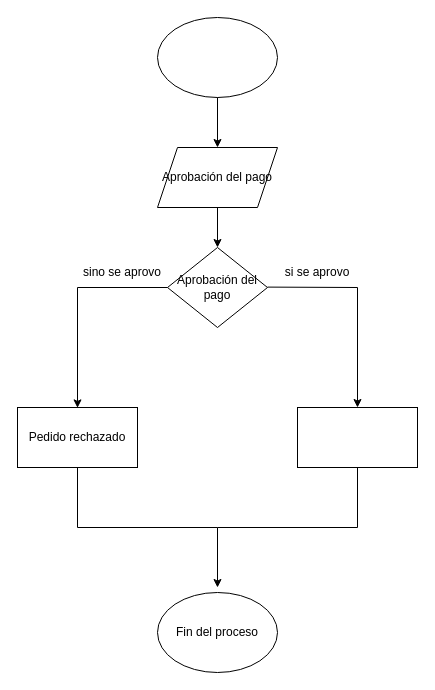
The diagram is 435 pixels wide and 690 high, and some of its shapes have lost their labels. Here are the shapes that lost their labels. From the top down, the centre of each, then its label:
At pixel 217 57: "Inicio del proceso".
At pixel 357 437: "Pedido confirmado con éxito".
